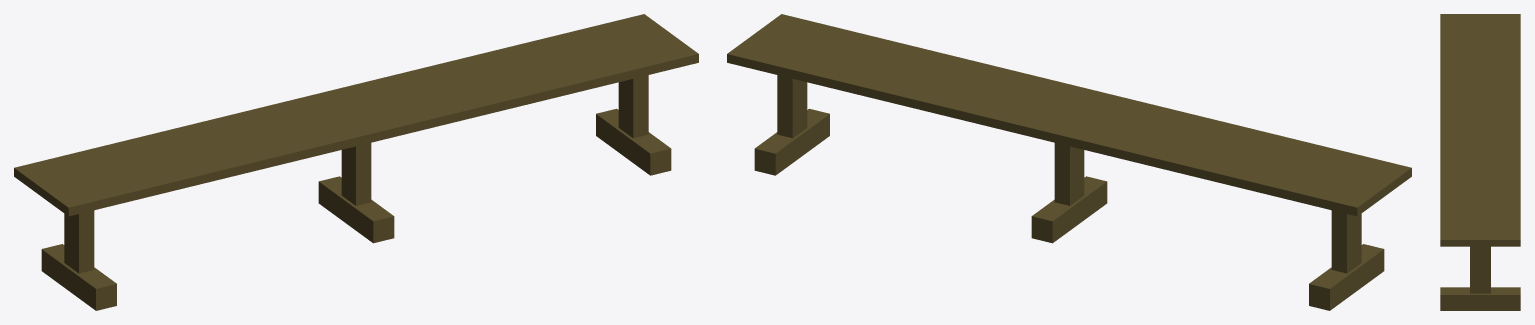
File: SM_Bench.fbx
The picture shows the model from 3 angles, left to right: view 1: azimuth 30°, elevation 25°; view 2: azimuth 150°, elevation 25°; view 3: azimuth 270°, elevation 25°; orthographic projection. The views are drawn at different scales.
Parts seen in each view (by area): view 1: SM_Bench; view 2: SM_Bench; view 3: SM_Bench.
Part boxes in pixels (box(x1,y1,x2,y2)): SM_Bench: box(14, 14, 698, 310); SM_Bench: box(727, 14, 1411, 310); SM_Bench: box(1440, 14, 1520, 310).
Size of the model in its own units: 300 by 50 by 45.
